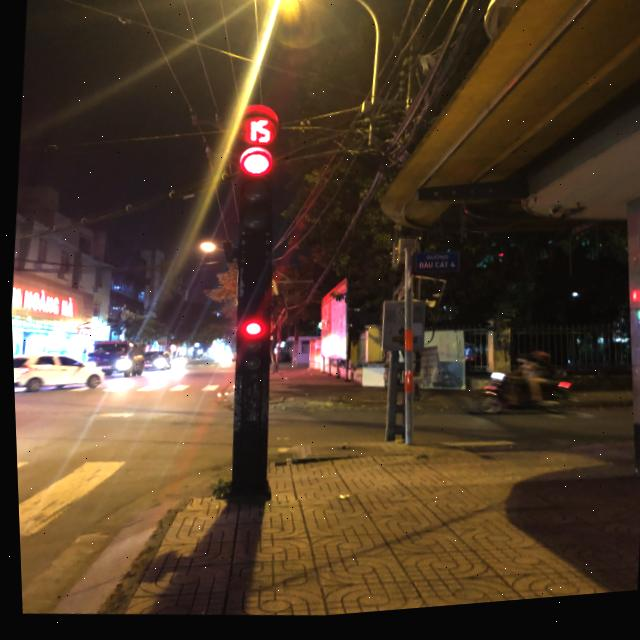Red: (228, 140, 277, 242), (233, 316, 271, 384)
